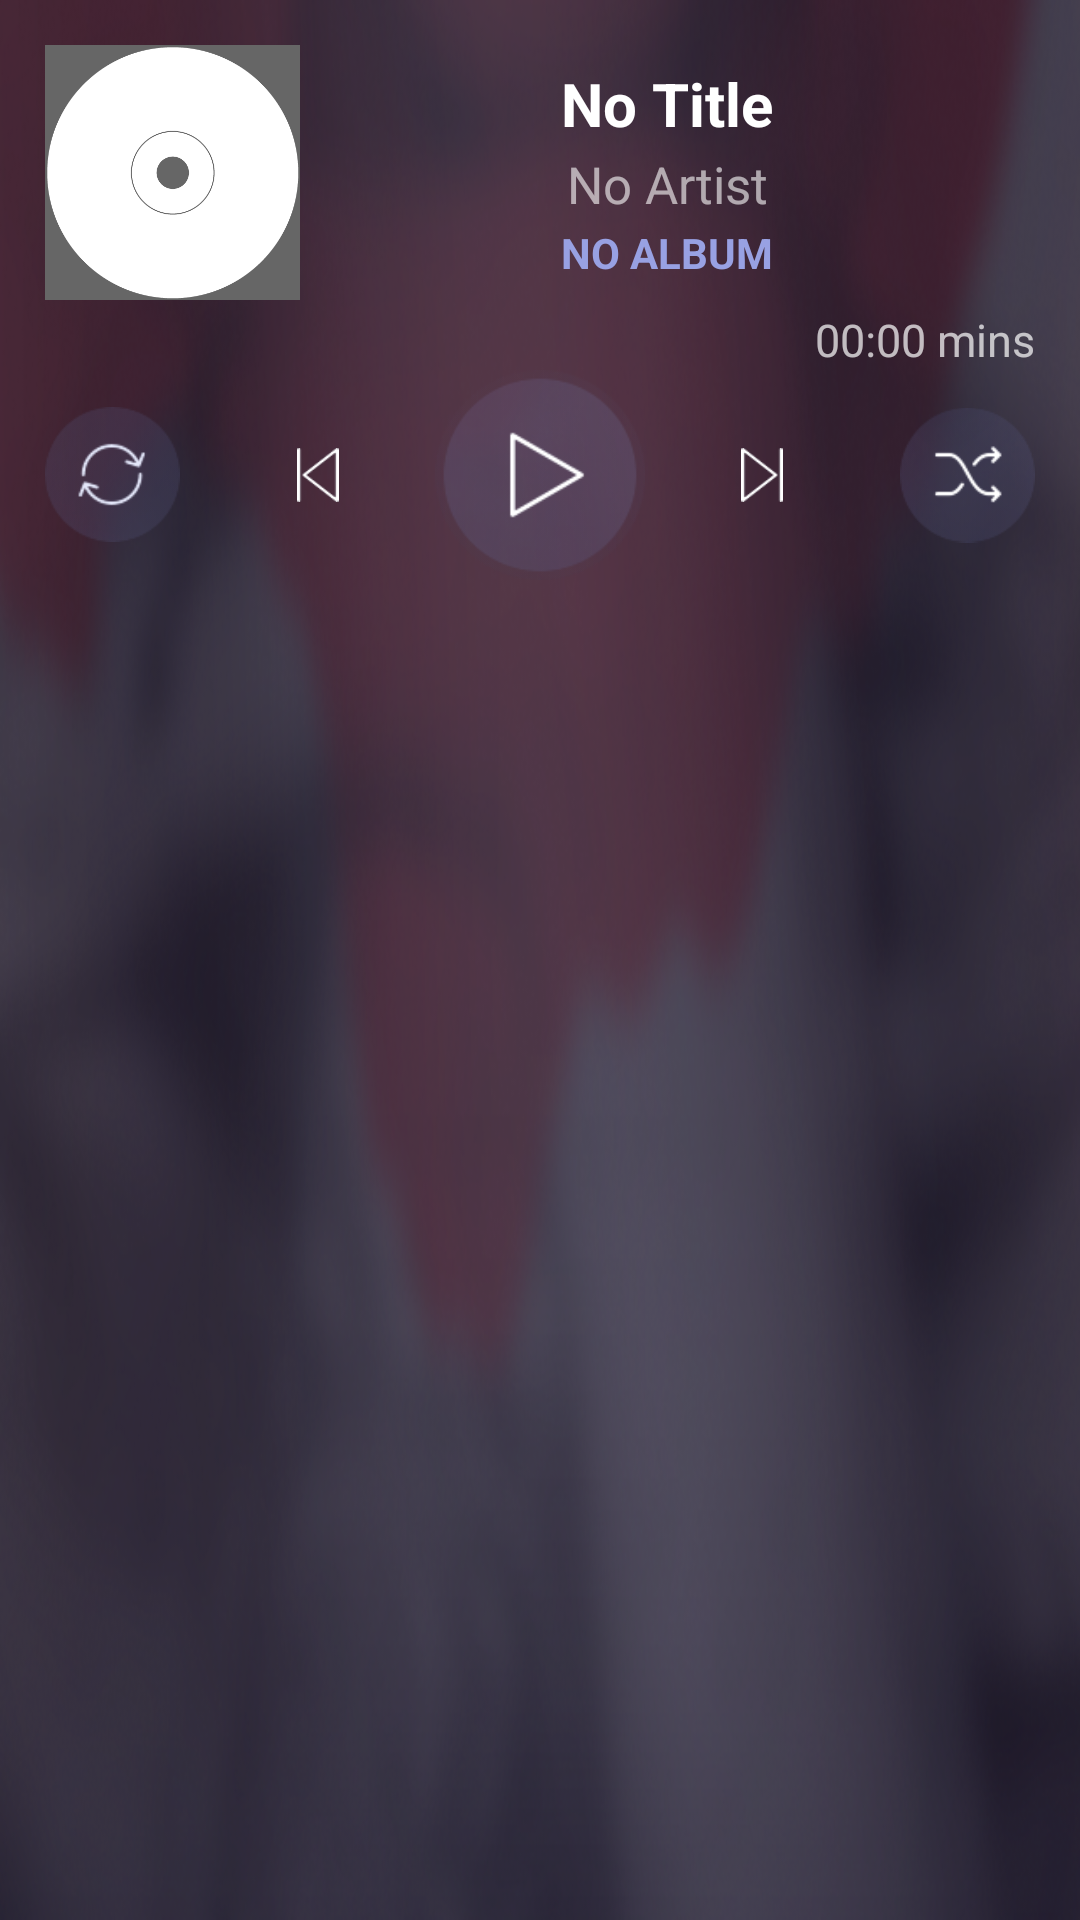

Named icons in this screenshot (1080w x 1920h) and their bounding boxes, (x1, y1, x2, y2):
play: (443, 378, 637, 572)
prev: (297, 448, 339, 502)
repeat: (45, 407, 180, 542)
shuffle: (900, 403, 1035, 547)
